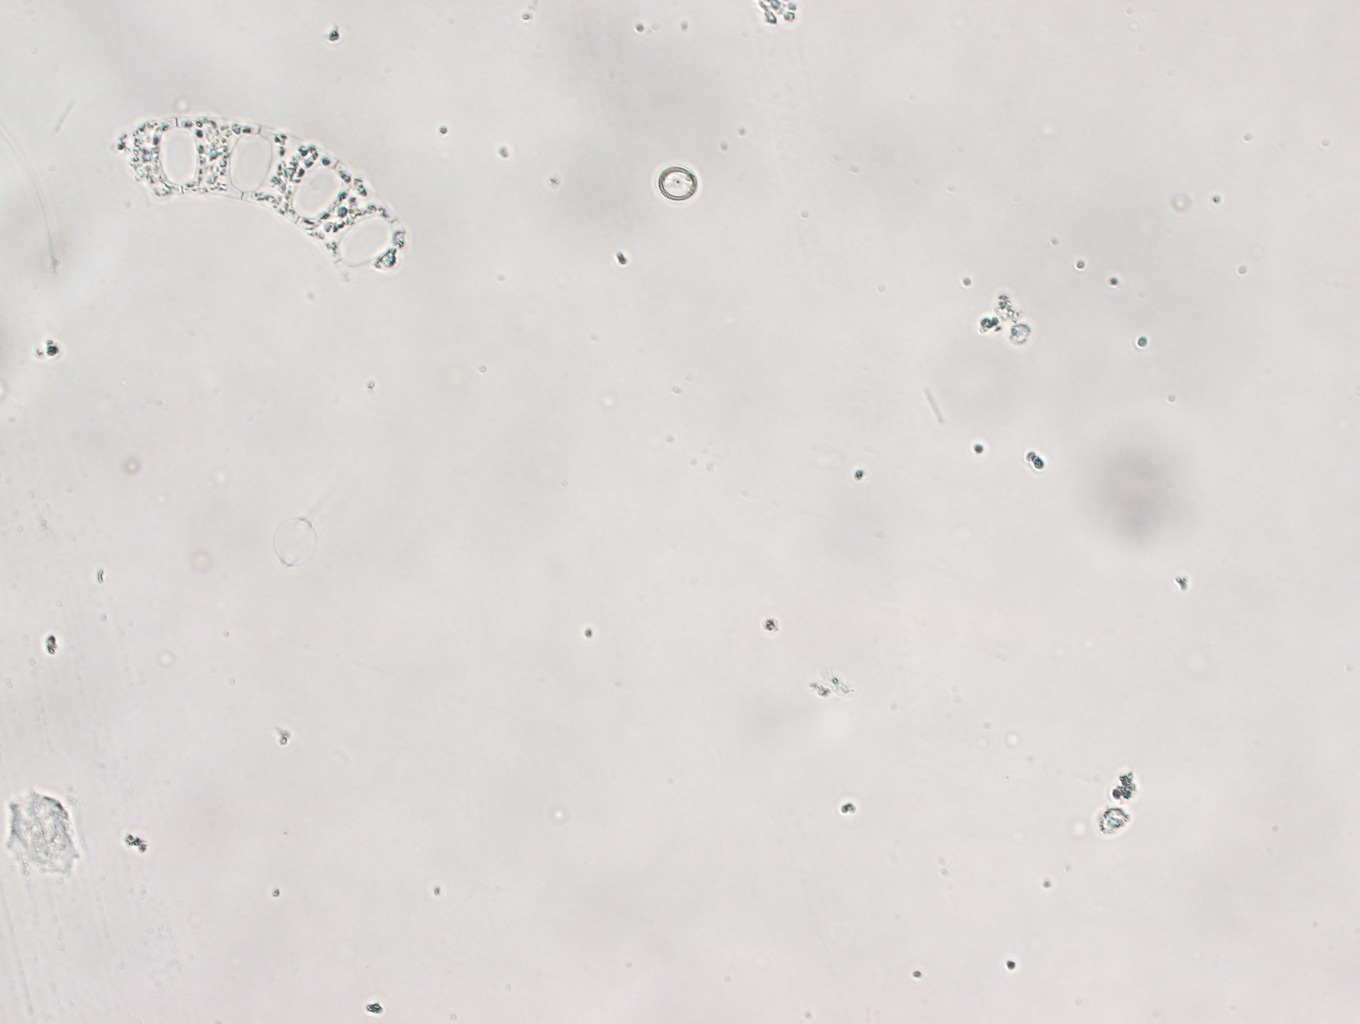eucampia: (105, 102, 417, 291)
